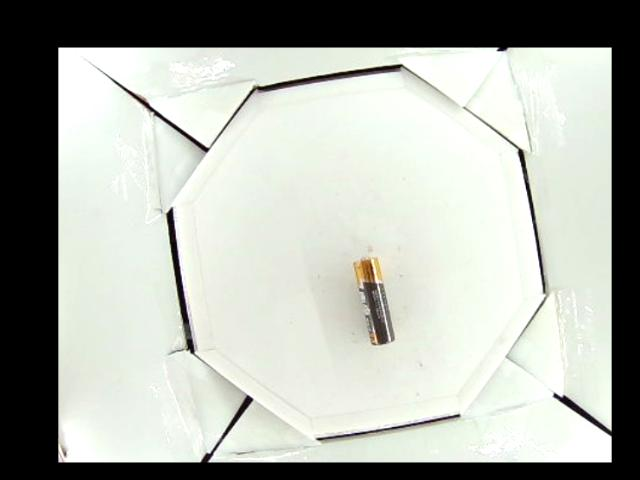Battery: (356, 256, 388, 347)
